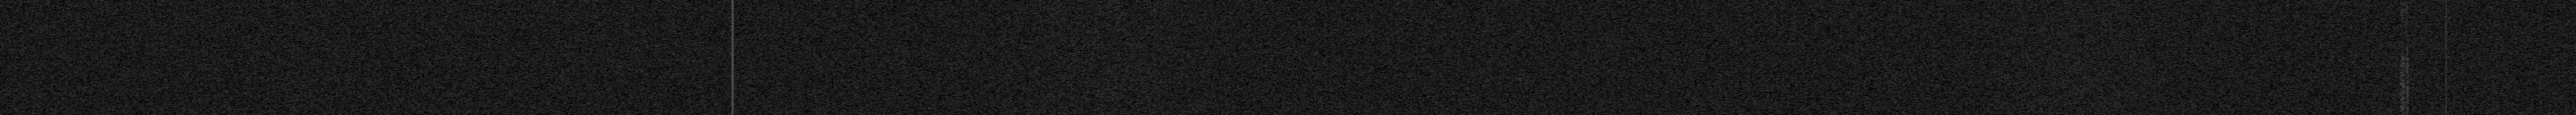wv_am: (731, 0, 734, 115)
wv_cw: (2445, 0, 2448, 115)
wv_lsb: (2399, 23, 2410, 115), (2400, 0, 2410, 21)
wv_wbfm: (1975, 10, 2173, 115), (999, 36, 1207, 115), (1007, 0, 1194, 34), (2024, 0, 2141, 8), (1194, 54, 1232, 62), (2006, 2, 2042, 8), (1188, 67, 1207, 76), (1005, 0, 1038, 3), (2167, 13, 2178, 21), (2131, 0, 2155, 3), (2164, 56, 2177, 61), (1191, 99, 1211, 102), (2167, 21, 2177, 28), (2175, 99, 2188, 103), (1207, 61, 1219, 66), (992, 56, 1004, 61), (2165, 31, 2173, 38), (1201, 102, 1232, 103), (984, 56, 994, 61), (1193, 23, 1207, 26), (1966, 97, 1981, 100), (2192, 99, 2205, 102), (1230, 56, 1239, 61), (1203, 5, 1211, 10), (2170, 107, 2178, 112), (999, 13, 1010, 16), (1198, 10, 1209, 13), (1973, 16, 1980, 21), (997, 18, 1017, 20), (1970, 72, 1988, 74), (1193, 20, 1211, 21), (2169, 57, 2177, 61), (1207, 79, 1216, 82), (1209, 28, 1217, 31), (1002, 10, 1010, 13), (1963, 107, 1971, 110), (2177, 103, 2185, 107), (1960, 100, 1968, 103), (987, 103, 1002, 105), (976, 100, 982, 103), (2173, 51, 2180, 54), (1971, 39, 1978, 43), (971, 103, 984, 105), (1247, 56, 1253, 59), (992, 51, 999, 54), (1193, 13, 1199, 16), (1199, 13, 1206, 16), (1199, 3, 1203, 10), (2175, 112, 2182, 115), (1971, 103, 1978, 107), (1211, 39, 1222, 41), (956, 100, 961, 103), (2177, 21, 2182, 25), (2182, 15, 2187, 18), (1957, 13, 1962, 16), (971, 56, 974, 61), (982, 53, 987, 56), (1204, 49, 1214, 51), (979, 38, 984, 41), (987, 38, 992, 41), (1000, 21, 1005, 25), (1007, 7, 1012, 10), (1207, 0, 1212, 3), (2170, 99, 2175, 102), (2173, 61, 2182, 62), (1966, 59, 1975, 61), (2183, 36, 2192, 38), (1226, 43, 1234, 44), (989, 102, 997, 103), (986, 15, 994, 16), (1224, 100, 1232, 102), (2172, 79, 2178, 80), (2195, 57, 2201, 59), (2190, 56, 2193, 59), (2177, 41, 2180, 44), (1966, 39, 1973, 41), (2180, 34, 2183, 38), (1970, 30, 1973, 33), (2172, 28, 2178, 30), (2190, 15, 2196, 16), (1239, 56, 1242, 59), (1207, 43, 1211, 46), (1196, 31, 1199, 34), (948, 102, 954, 103), (1198, 3, 1204, 5), (992, 0, 999, 2), (2190, 103, 2193, 107), (992, 107, 997, 108), (2178, 85, 2183, 87), (2180, 82, 2185, 84), (2178, 79, 2183, 80), (1970, 69, 1975, 71), (1957, 56, 1962, 57), (999, 97, 1004, 99), (1962, 26, 1966, 28), (1966, 16, 1971, 18), (2001, 0, 2006, 2), (1219, 41, 1224, 43), (996, 39, 1000, 41), (999, 33, 1004, 34), (969, 102, 974, 103), (994, 21, 999, 23), (991, 18, 996, 20), (1002, 3, 1007, 5), (1196, 0, 1201, 2), (1217, 100, 1222, 102), (1962, 99, 1966, 100), (1953, 56, 1957, 57), (2182, 56, 2185, 57), (1968, 56, 1971, 57), (2170, 54, 2173, 56), (1970, 46, 1973, 48), (1211, 87, 1214, 89), (1996, 0, 1999, 2), (1211, 85, 1214, 87), (989, 62, 992, 64), (1240, 59, 1244, 61), (977, 59, 981, 61), (954, 59, 958, 61), (1255, 57, 1258, 59), (1211, 48, 1214, 49), (1207, 39, 1211, 41), (1203, 33, 1206, 34), (996, 31, 999, 33), (1201, 30, 1204, 31), (1196, 28, 1199, 30), (1000, 26, 1004, 28), (1207, 15, 1211, 16), (1212, 13, 1214, 16), (2173, 112, 2177, 113), (2178, 110, 2182, 112), (1217, 110, 1219, 112), (2180, 59, 2182, 61), (2177, 38, 2178, 39), (2182, 26, 2183, 28), (2177, 3, 2178, 5), (1981, 3, 1983, 5), (999, 64, 1000, 66), (953, 59, 954, 61), (1273, 56, 1275, 57), (991, 54, 992, 56), (1222, 25, 1224, 26), (1211, 25, 1212, 26), (1004, 8, 1005, 10), (1004, 0, 1005, 2)
